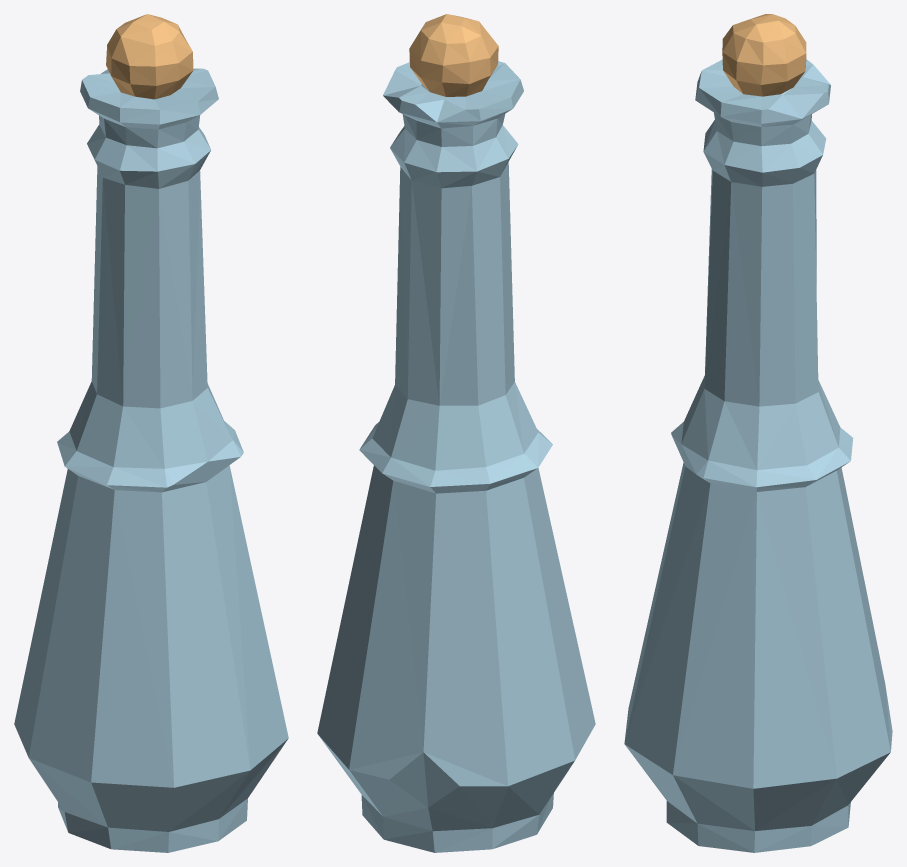
Rendered from Poison_002.fbx.
The picture shows the model from 3 angles, left to right: view 1: azimuth 30°, elevation 25°; view 2: azimuth 150°, elevation 25°; view 3: azimuth 270°, elevation 25°; orthographic projection.
Parts seen in each view (by area): view 1: Poison_002; view 2: Poison_002; view 3: Poison_002.
Part boxes in pixels (x1=…): Poison_002: x1=14, y1=14, x2=288, y2=852; Poison_002: x1=317, y1=14, x2=595, y2=852; Poison_002: x1=624, y1=14, x2=892, y2=852.
Size of the model in its own units: 0.1371 by 0.4314 by 0.1317.
